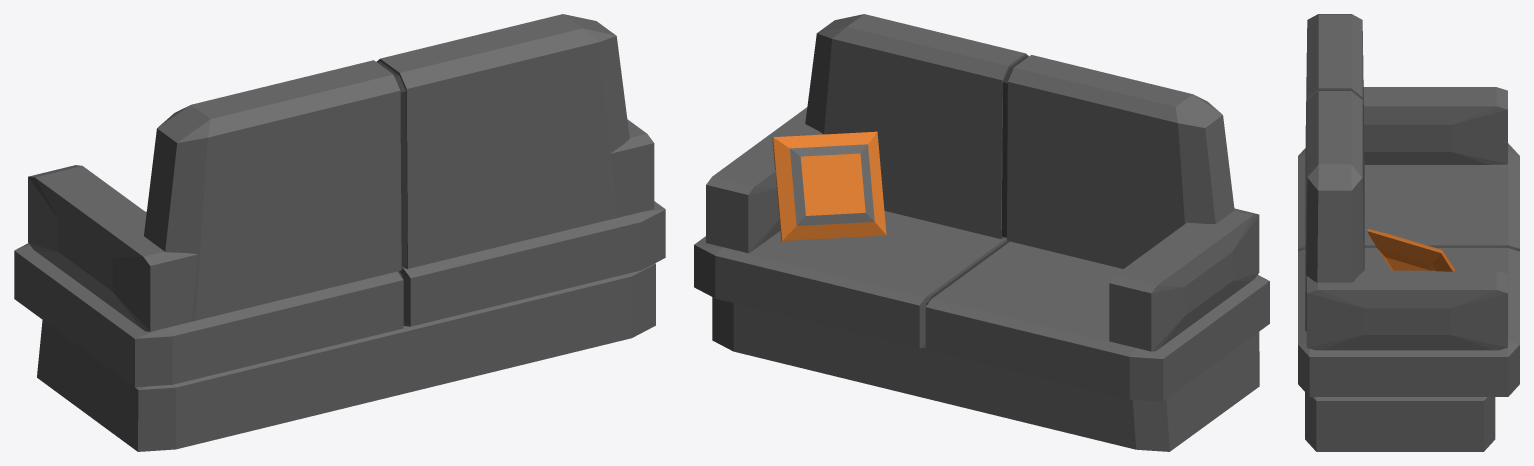
File: Couch01.fbx
3 views of the same model, side by side, from view 1: azimuth 30°, elevation 25°; view 2: azimuth 150°, elevation 25°; view 3: azimuth 270°, elevation 25° (orthographic). The views are drawn at different scales.
Parts seen in each view (by area): view 1: Couch01; view 2: Couch01; view 3: Couch01.
Part boxes in pixels (x1,y1,x2,y2): Couch01: [14, 14, 665, 451]; Couch01: [694, 14, 1269, 451]; Couch01: [1298, 14, 1519, 451].
Size of the model in its own units: 1.18 by 0.5161 by 0.673.
